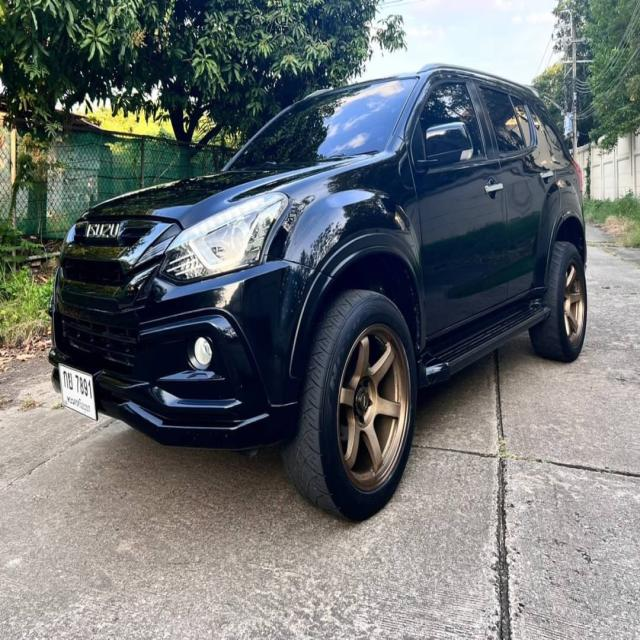license_plate: (52, 352, 108, 439)
